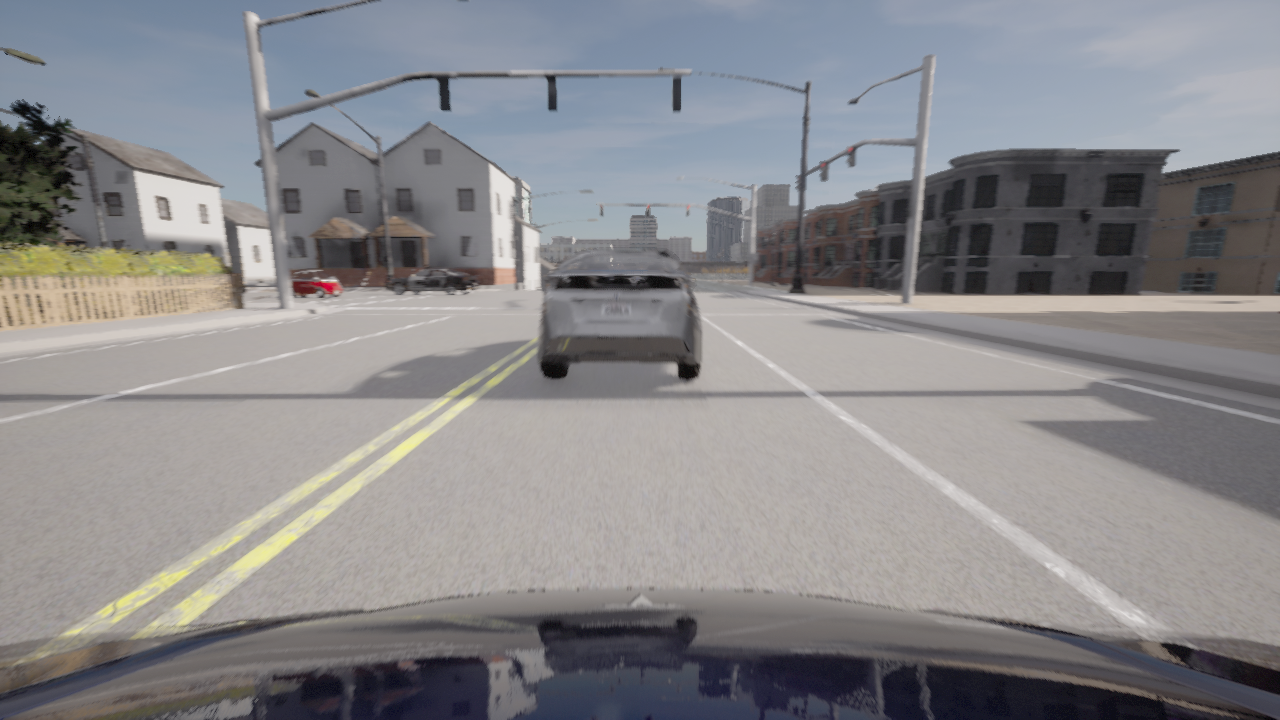cyclist: (0, 588, 1279, 719), (538, 249, 702, 380), (385, 265, 479, 295), (290, 270, 342, 298), (241, 278, 246, 292)
